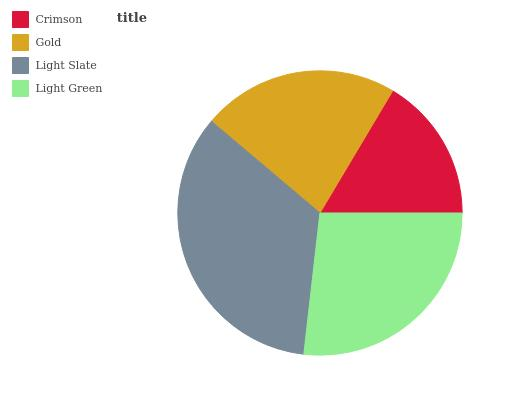legend: (0, 1, 111, 113)
sector: (164, 118, 321, 356), (211, 62, 396, 213), (299, 211, 463, 357), (321, 90, 466, 214)
